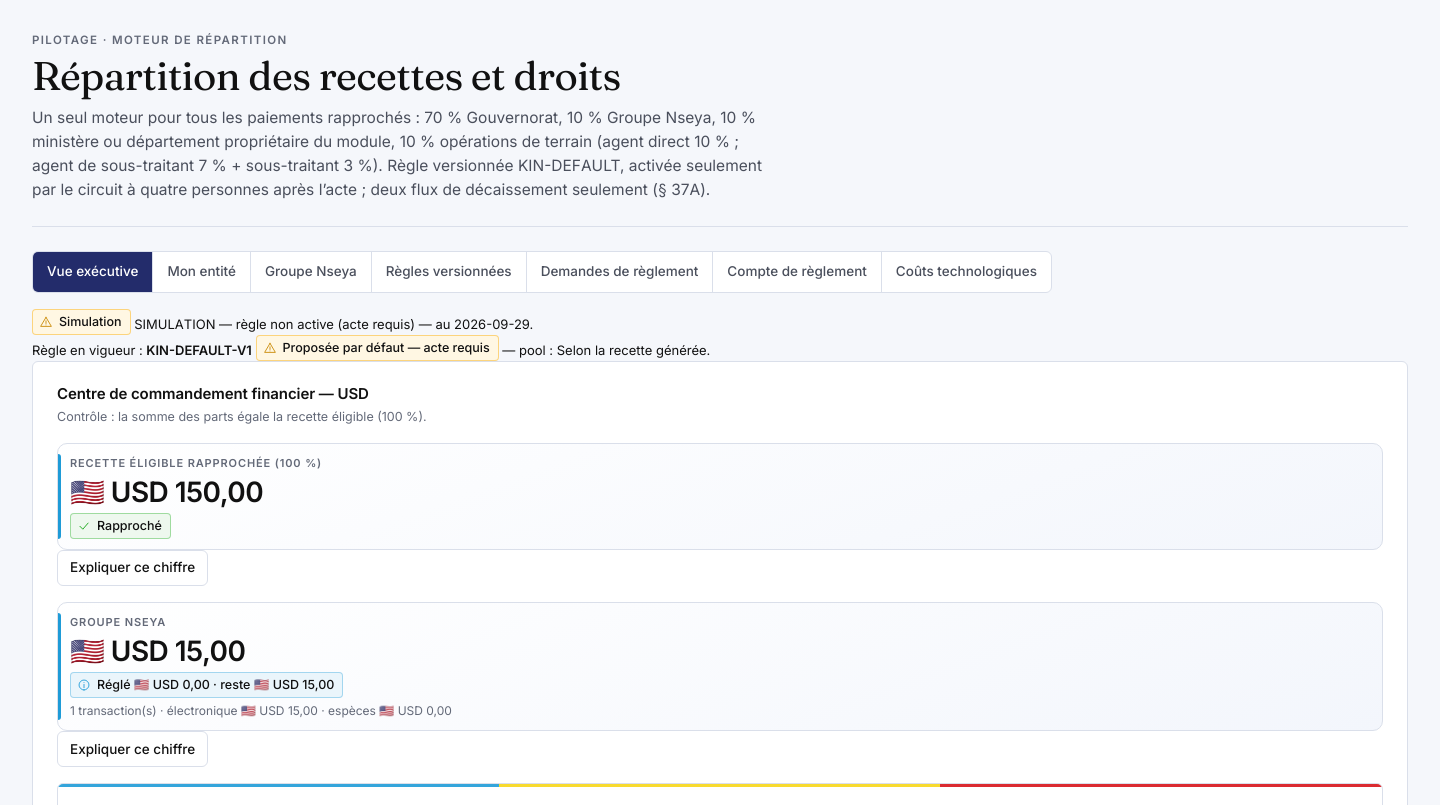
Test: Moteur de répartition — écrans › centre de commandement financier : chaque chiffre s’explique (taux, droit, contrôle) puis mène aux transactions
The width and height of the screenshot is (1440, 805).
Check: the heading "Centre de commandement financier — USD" is shown, box [57,384,369,403]
Click the 2nd button "Expliquer ce chiffre" at (133, 749), box [57,731,208,767]
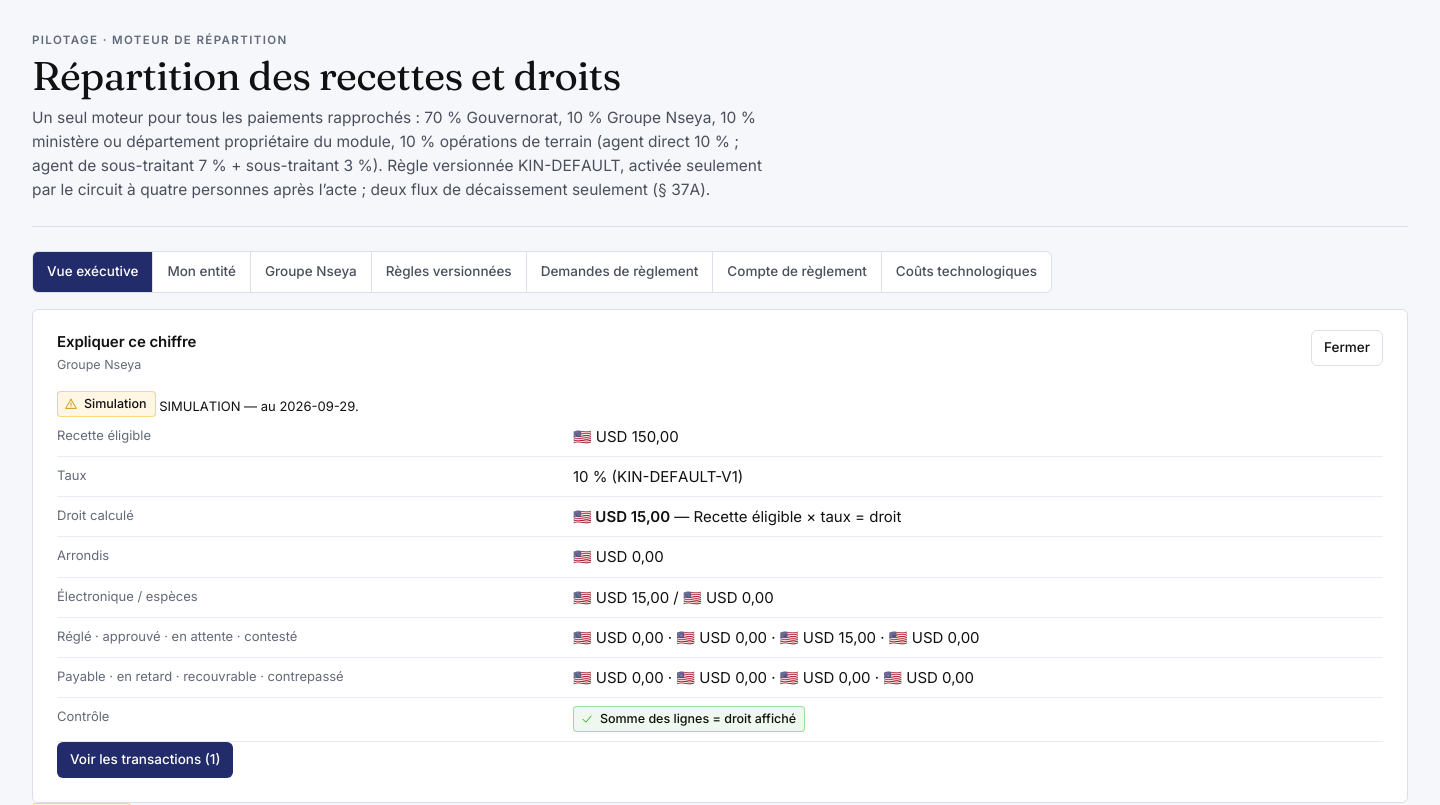
Check: the text "Somme des lignes = droit affiché" is shown, box [600,709,796,729]
Click the button "Voir les transactions (1)" at (145, 760), box [57,742,233,778]
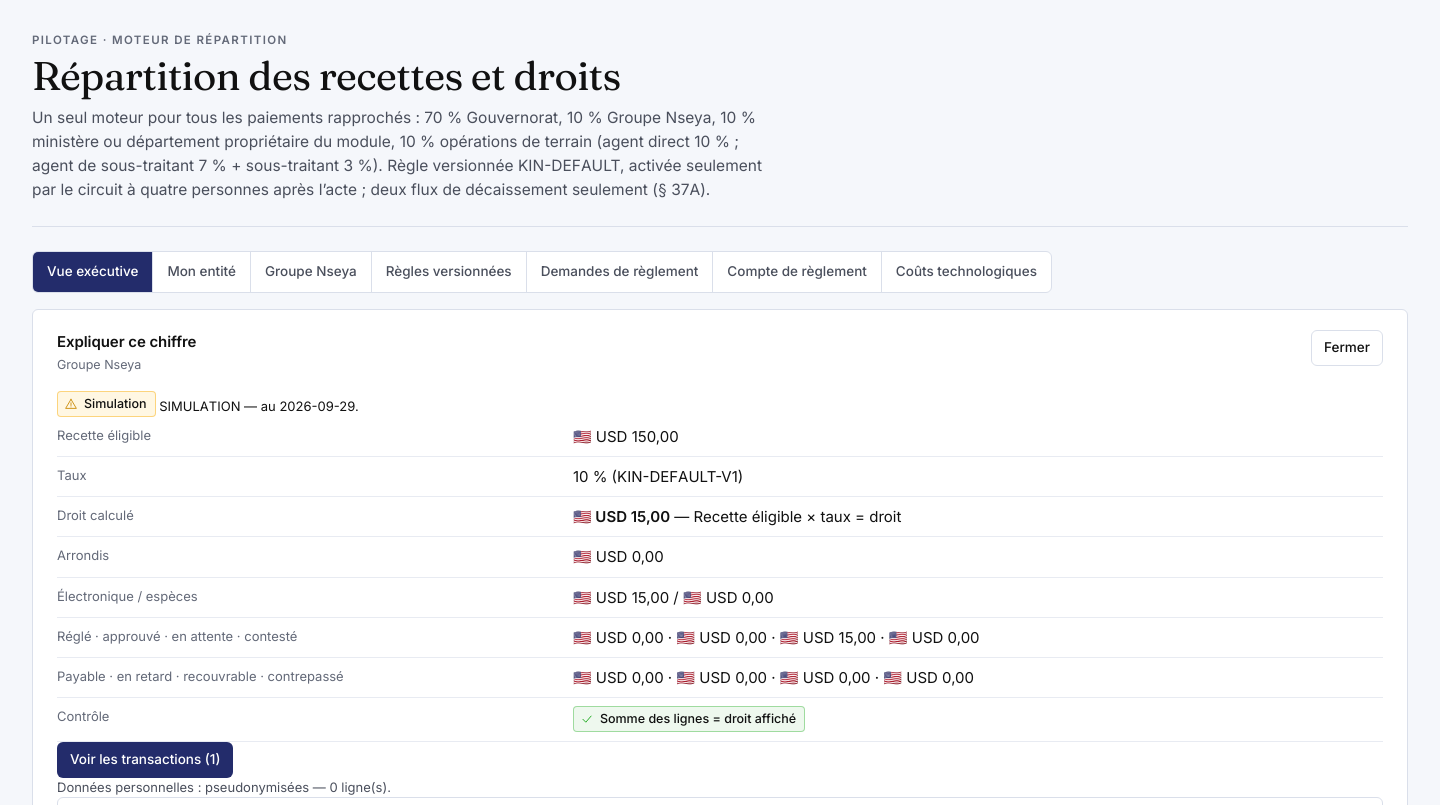
Check: the text "Données personnelles : pseudonymisées — 0 ligne(s)." is shown, box [57,778,391,794]
